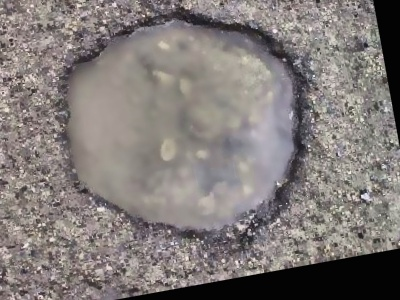pothole: (40, 0, 334, 274)
